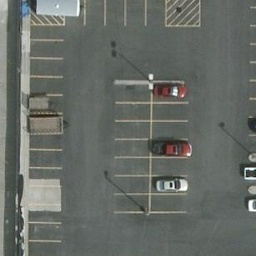car: (154, 135, 194, 158), (151, 81, 188, 99), (154, 177, 190, 194)
